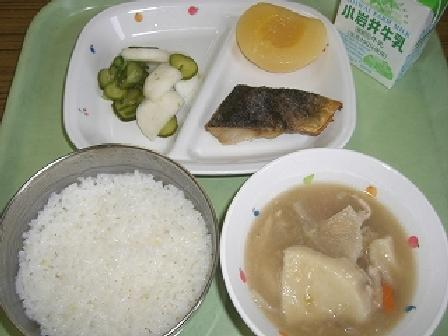Fish: (204, 73, 343, 150)
Milk: (330, 0, 446, 80)
Rice: (3, 151, 214, 335)
Soups: (232, 164, 439, 333)
peach: (231, 5, 329, 75)
salad fresh: (84, 35, 199, 140)
